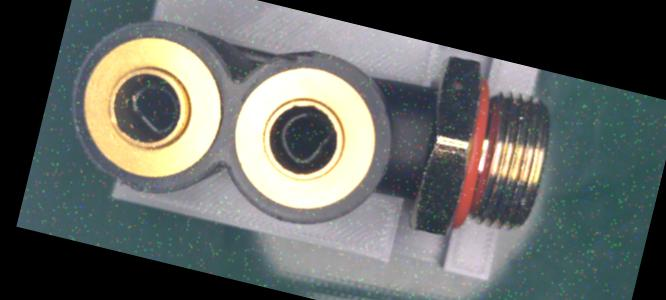bump: (274, 42, 321, 69), (103, 168, 144, 191)
off-centered: (270, 107, 338, 171), (120, 74, 189, 137)
white mark: (398, 147, 422, 169)
